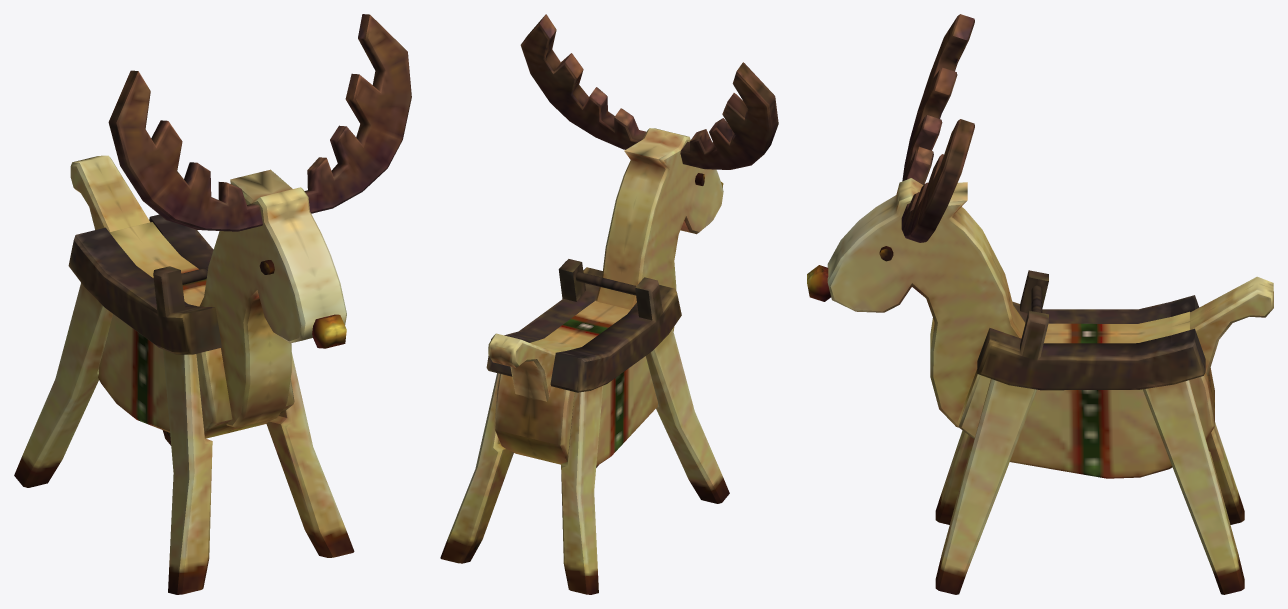
3 views of the same model, side by side, from view 1: azimuth 30°, elevation 25°; view 2: azimuth 150°, elevation 25°; view 3: azimuth 270°, elevation 25° (orthographic). The views are drawn at different scales.
Size of the model in its own units: 1.32 by 2.28 by 1.97.
Materials: 2 (2 with a texture image).
